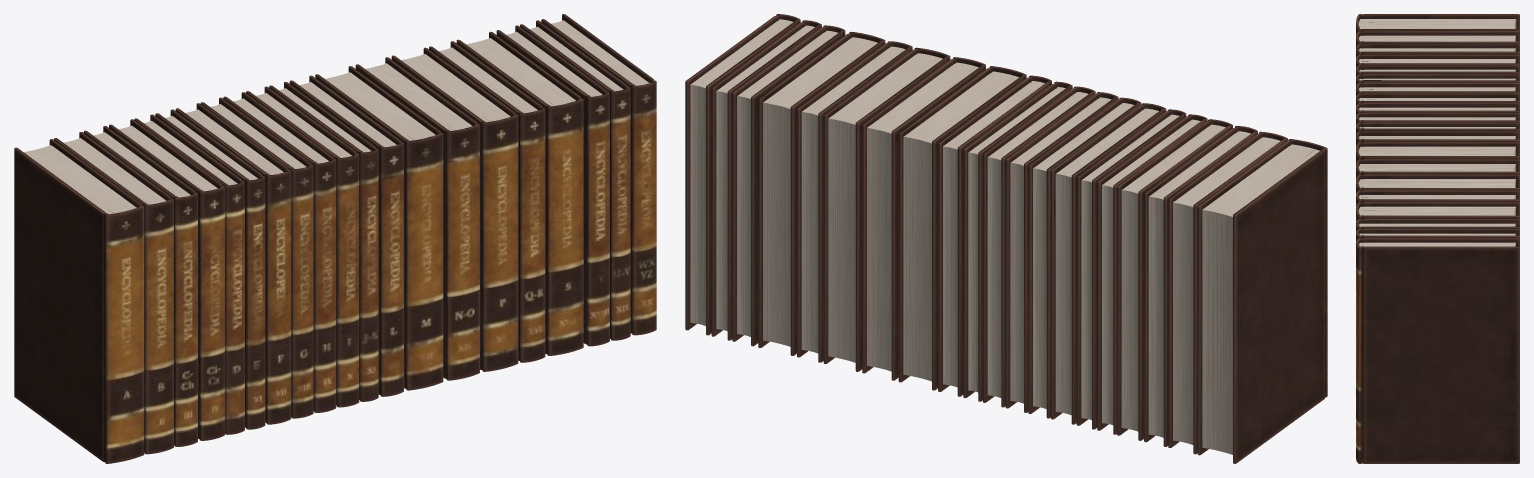
File: book_encyclopedia_set_01.glb
3 renders of one model, left to right at view 1: azimuth 30°, elevation 25°; view 2: azimuth 150°, elevation 25°; view 3: azimuth 270°, elevation 25°, orthographic. The views are drawn at different scales.
Visible parts, largest first — view 1: book_encyclopedia_set_01; view 2: book_encyclopedia_set_01; view 3: book_encyclopedia_set_01.
Part boxes in pixels (bbox=[...]): book_encyclopedia_set_01: bbox=[14, 14, 656, 463]; book_encyclopedia_set_01: bbox=[685, 14, 1327, 463]; book_encyclopedia_set_01: bbox=[1356, 14, 1519, 463].
Bounding box in the file's own units: 0.5513 × 0.2374 × 0.1631.
Materials: 2 (2 with a texture image).
